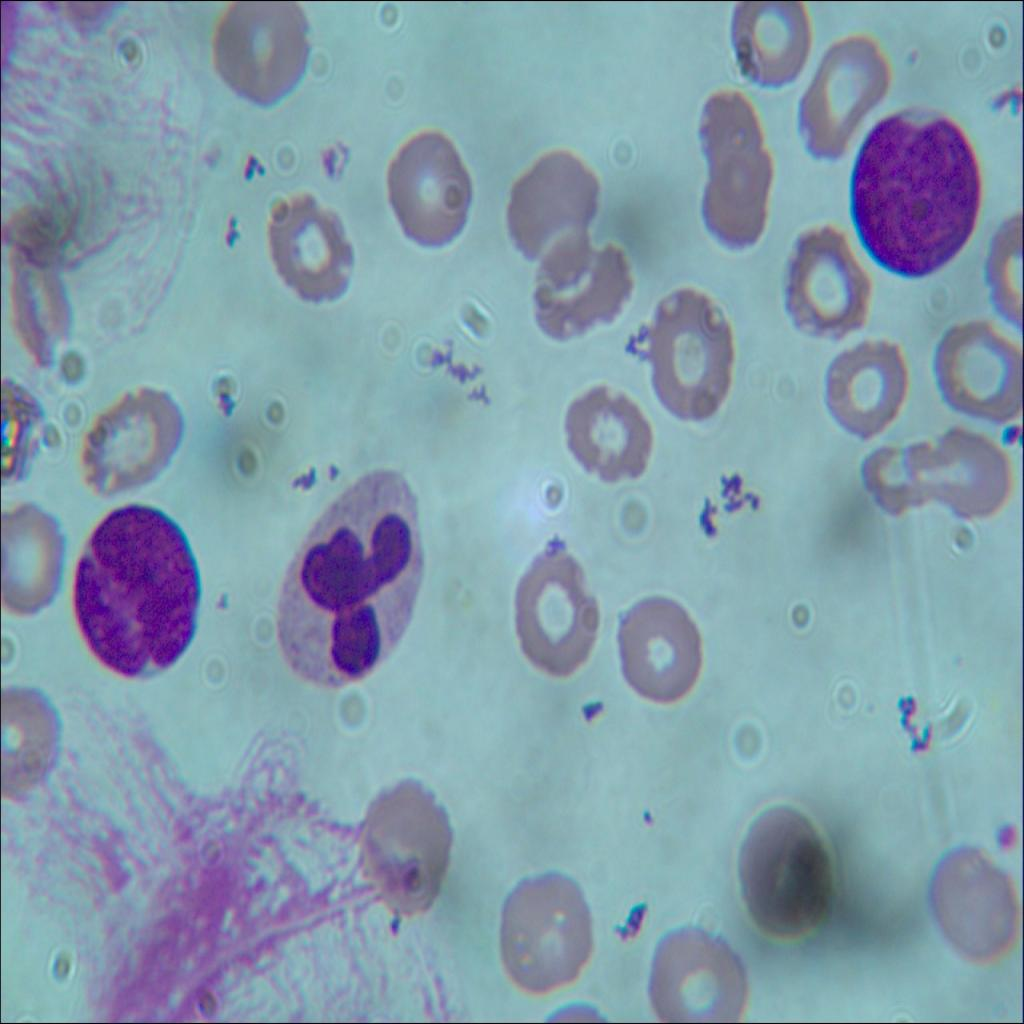Eritrosit: (792, 24, 894, 175), (355, 780, 459, 922), (498, 865, 603, 1004), (642, 285, 736, 429), (736, 808, 834, 941), (506, 542, 604, 674), (919, 838, 1023, 957), (502, 138, 599, 260), (642, 922, 756, 1023), (209, 0, 315, 108), (266, 181, 352, 314), (81, 388, 183, 497), (384, 128, 475, 249), (548, 388, 658, 486), (779, 218, 866, 341), (620, 595, 706, 714), (538, 228, 633, 335), (0, 671, 68, 811), (823, 324, 908, 435), (0, 509, 73, 624), (926, 421, 1008, 522), (943, 315, 1023, 415), (706, 151, 778, 254), (864, 429, 941, 525), (729, 0, 803, 95), (691, 88, 766, 174), (978, 216, 1024, 324)
Limfoblast: (843, 98, 982, 281), (73, 504, 208, 671)
Neutrofil: (273, 470, 424, 684)
Platelet: (990, 812, 1024, 870), (578, 691, 613, 737), (999, 409, 1023, 451), (638, 804, 659, 834), (906, 37, 923, 74)
